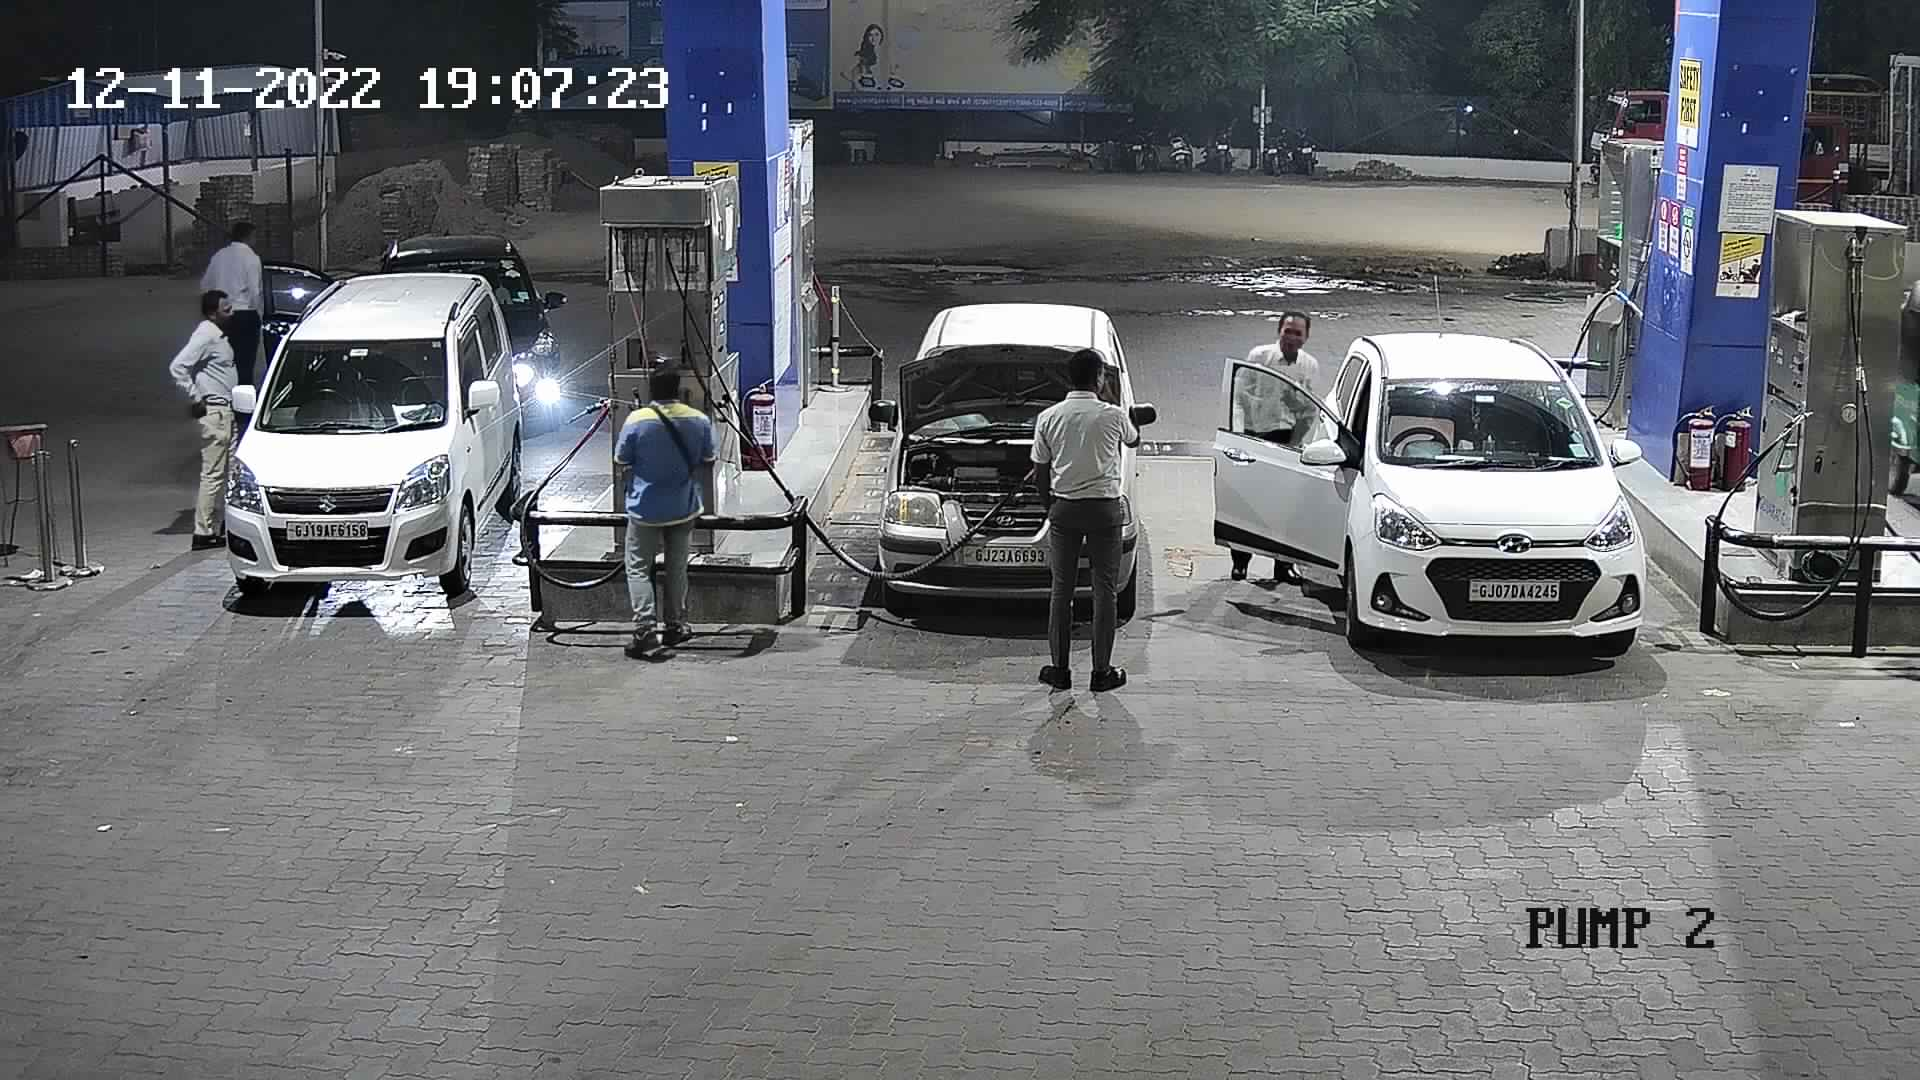Auto: (1867, 269, 1917, 514)
Bike: (1196, 113, 1249, 177), (1114, 116, 1160, 182), (1247, 121, 1294, 179), (1160, 109, 1199, 177), (1283, 113, 1323, 177)
Car: (1196, 323, 1652, 666), (204, 266, 543, 620), (864, 290, 1155, 634), (247, 224, 568, 446)
HMV: (1776, 41, 1917, 233), (1573, 66, 1669, 210)
Others: (603, 351, 723, 662)
